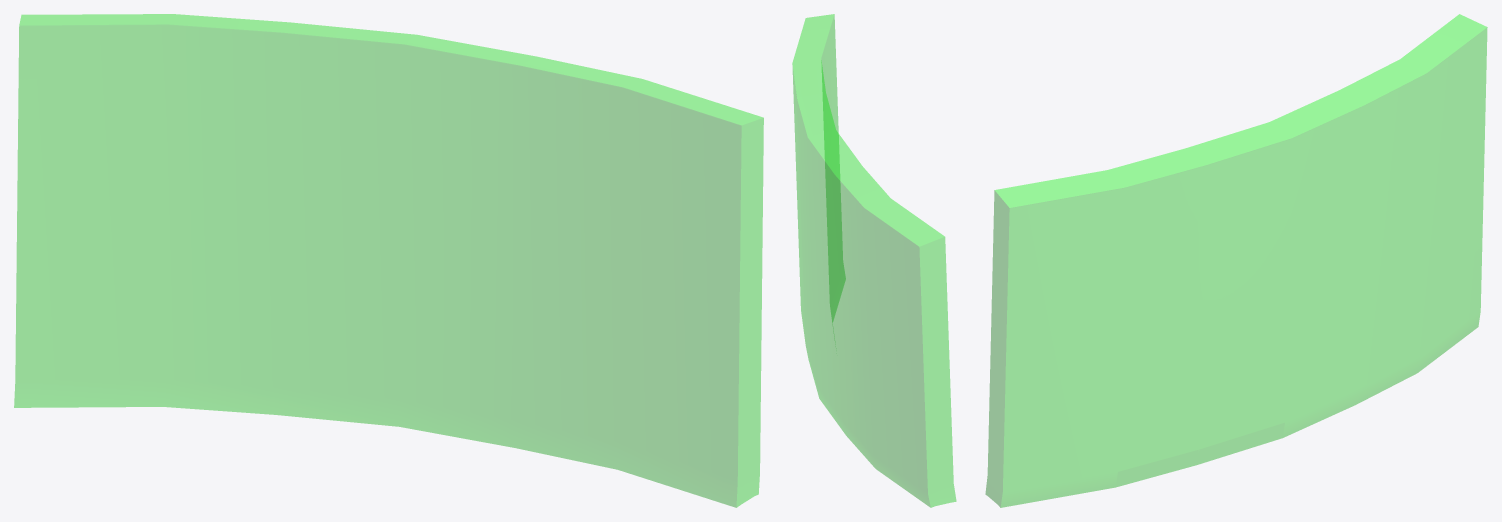
Rendered from display_00v3.gltf.
3 views of the same model, side by side, from view 1: azimuth 30°, elevation 25°; view 2: azimuth 150°, elevation 25°; view 3: azimuth 270°, elevation 25° (orthographic). The views are drawn at different scales.
Visible parts, largest first — view 1: Model; view 2: Model; view 3: Model.
Boxes of the visible parts, x1=… form: Model: x1=14, y1=14, x2=763, y2=507; Model: x1=792, y1=14, x2=956, y2=507; Model: x1=985, y1=14, x2=1487, y2=507.
Bounding box in the file's own units: 13.82 × 10.34 × 15.19.
